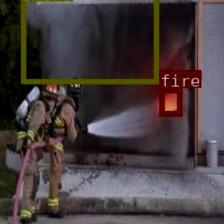fire: (158, 87, 181, 115)
smoke: (20, 0, 157, 83)
